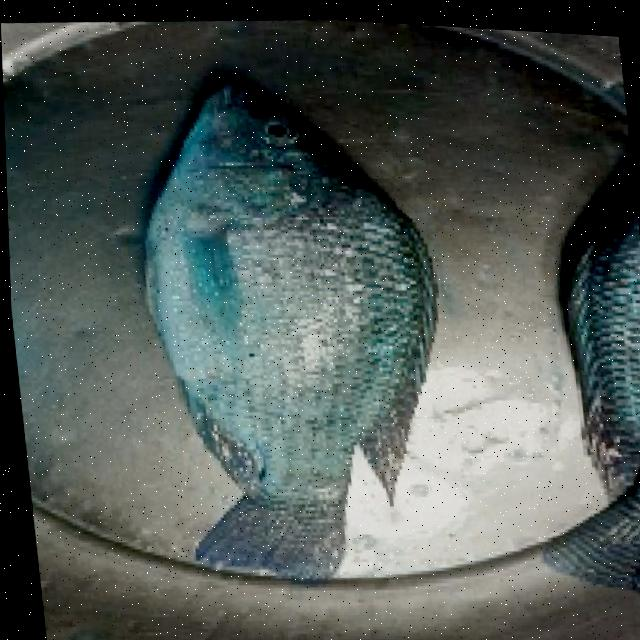Fresh: (96, 58, 424, 514)
